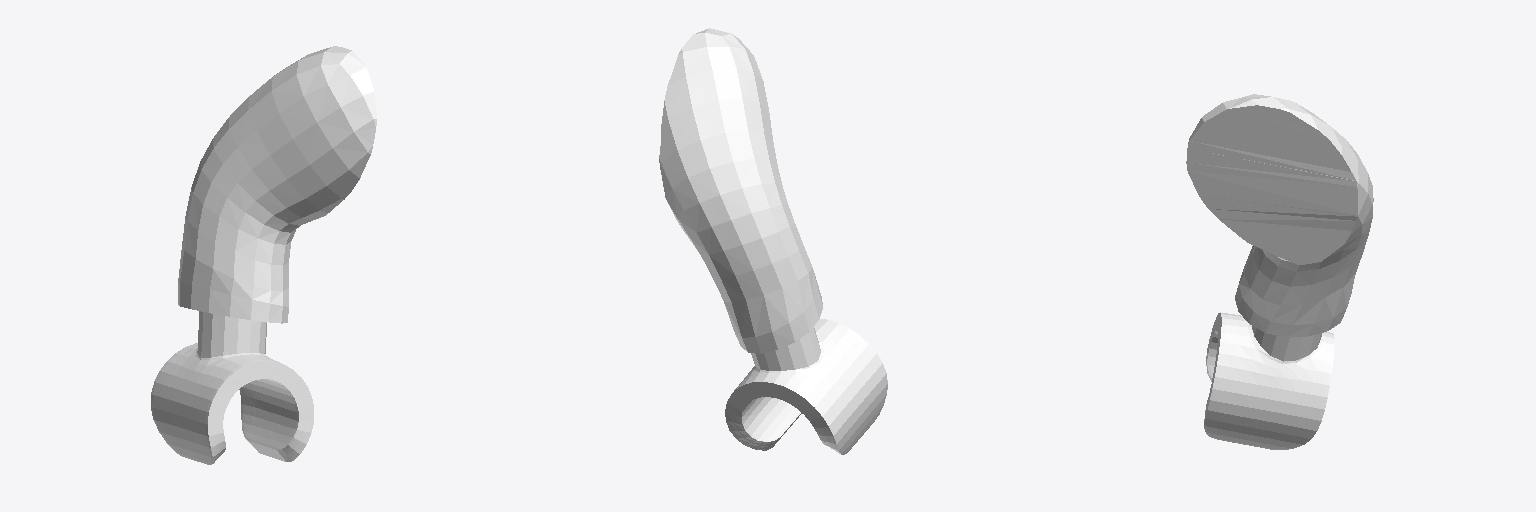
3 views of the same model, side by side, from view 1: azimuth 30°, elevation 25°; view 2: azimuth 150°, elevation 25°; view 3: azimuth 270°, elevation 25° (orthographic).
Parts seen in each view (by area): view 1: brazoDerMarge; view 2: brazoDerMarge; view 3: brazoDerMarge.
Boxes of the visible parts, box(x1,y1,x2,y2) form: brazoDerMarge: box(151, 46, 376, 464); brazoDerMarge: box(659, 28, 887, 454); brazoDerMarge: box(1186, 94, 1373, 449).
Bounding box in the file's own units: 1.14 × 2.46 × 1.08.
Materials: 1 (1 with a texture image).